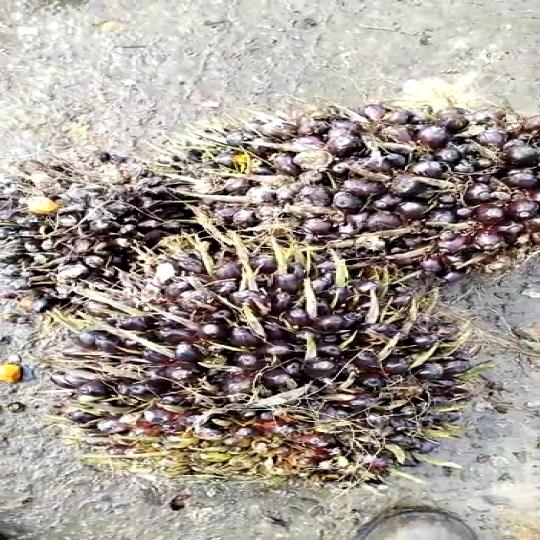mentah: (55, 235, 476, 490), (151, 115, 540, 285), (0, 152, 219, 310)
